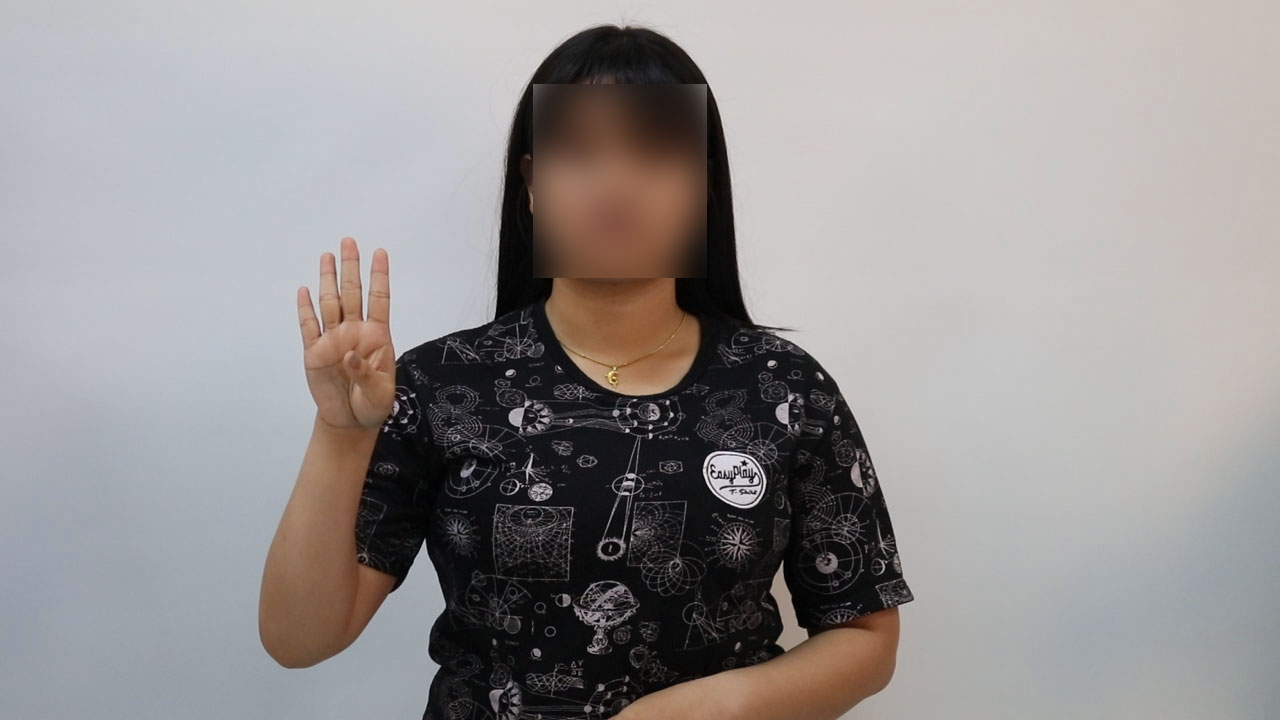bor: (284, 222, 406, 455)
